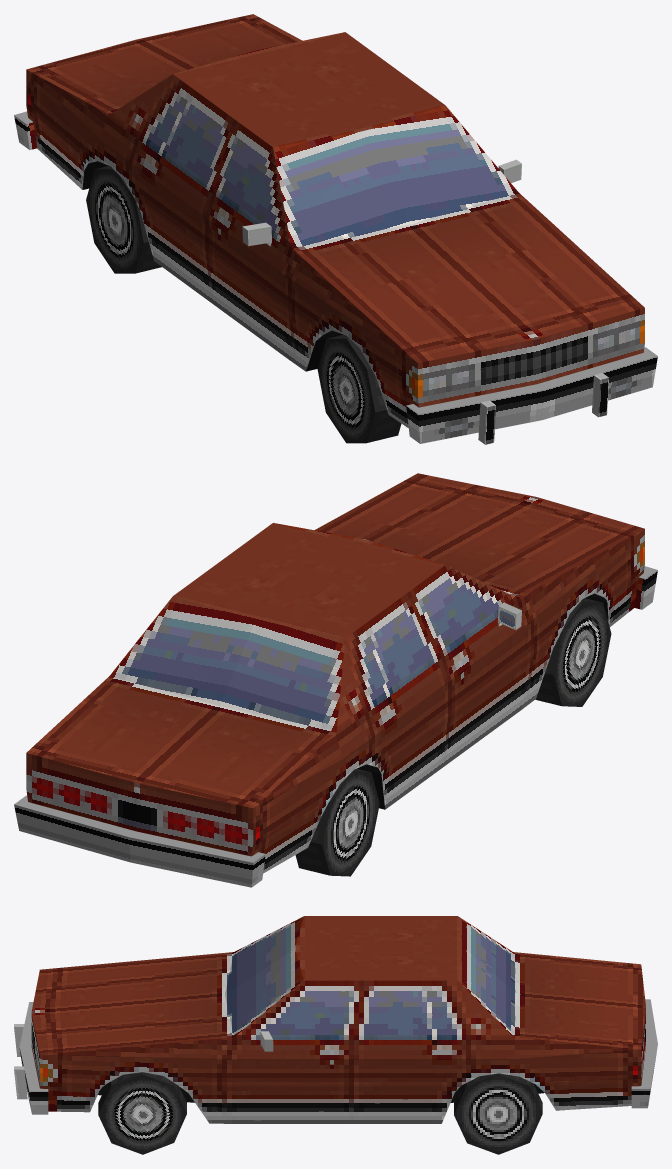
The model's file is Classic.glb.
The picture shows the model from 3 angles, top to bottom: view 1: azimuth 30°, elevation 25°; view 2: azimuth 150°, elevation 25°; view 3: azimuth 270°, elevation 25°; orthographic projection. The views are drawn at different scales.
Parts seen in each view (by area): view 1: Car5; view 2: Car5; view 3: Car5.
Part boxes in pixels (x1,y1,x2,y2): Car5: (14,14,657,444); Car5: (14,473,657,887); Car5: (14,916,657,1154).
Bounding box in the file's own units: 2.78 × 2.05 × 7.37.
Materials: 1 (1 with a texture image).
